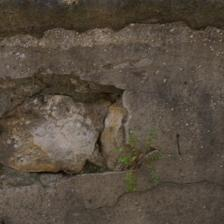Crack: (30, 70, 157, 205), (21, 0, 119, 158), (12, 0, 59, 64)
